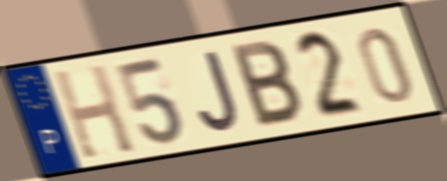0: (354, 24, 416, 105)
2: (295, 27, 368, 123)
5: (112, 53, 187, 149)
B: (228, 38, 306, 132)
H: (49, 61, 139, 162)
J: (196, 47, 242, 135)
